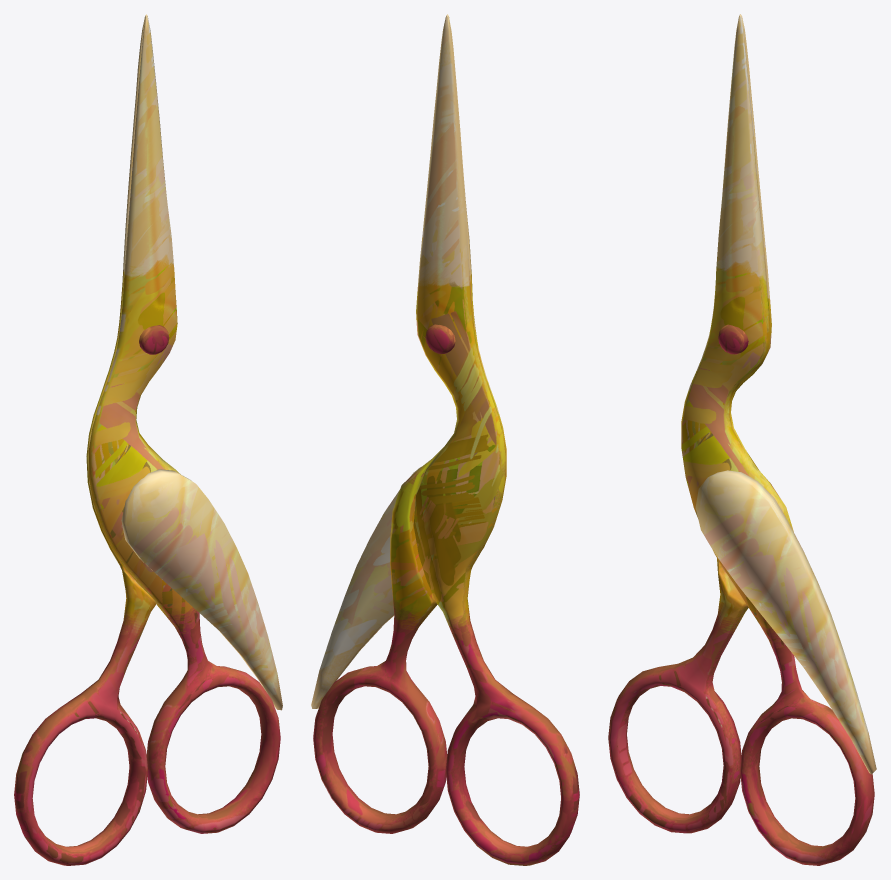
Rendered from prop_scissors.fbx.
The picture shows the model from 3 angles, left to right: view 1: azimuth 30°, elevation 25°; view 2: azimuth 150°, elevation 25°; view 3: azimuth 330°, elevation 25°; orthographic projection.
Parts seen in each view (by area): view 1: prop_scissors_right, prop_scissors_wing, prop_scissors_left, prop_scissors_axis; view 2: prop_scissors_left, prop_scissors_right, prop_scissors_wing, prop_scissors_axis; view 3: prop_scissors_right, prop_scissors_wing, prop_scissors_left, prop_scissors_axis.
Boxes of the visible parts, x1=… form: prop_scissors_right: x1=88, y1=14, x2=280, y2=833; prop_scissors_wing: x1=121, y1=469, x2=282, y2=710; prop_scissors_left: x1=14, y1=14, x2=155, y2=865; prop_scissors_axis: x1=139, y1=325, x2=169, y2=354; prop_scissors_left: x1=413, y1=14, x2=579, y2=865; prop_scissors_right: x1=313, y1=14, x2=506, y2=833; prop_scissors_wing: x1=311, y1=467, x2=420, y2=708; prop_scissors_axis: x1=425, y1=324, x2=455, y2=353; prop_scissors_right: x1=681, y1=14, x2=874, y2=865; prop_scissors_wing: x1=695, y1=470, x2=876, y2=774; prop_scissors_left: x1=608, y1=14, x2=771, y2=833; prop_scissors_axis: x1=718, y1=324, x2=748, y2=354.
Size of the model in its own units: 0.8717 by 2.61 by 0.1539.
